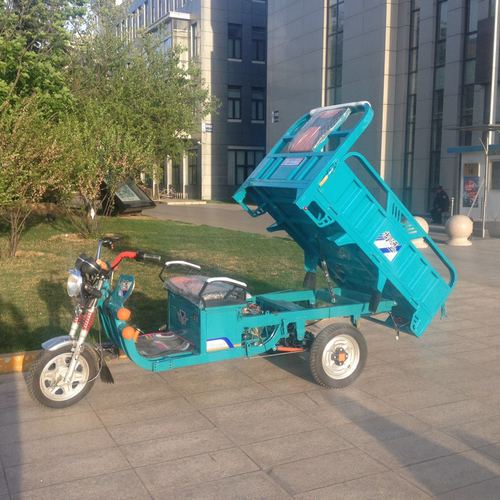empty: (34, 106, 442, 413)
